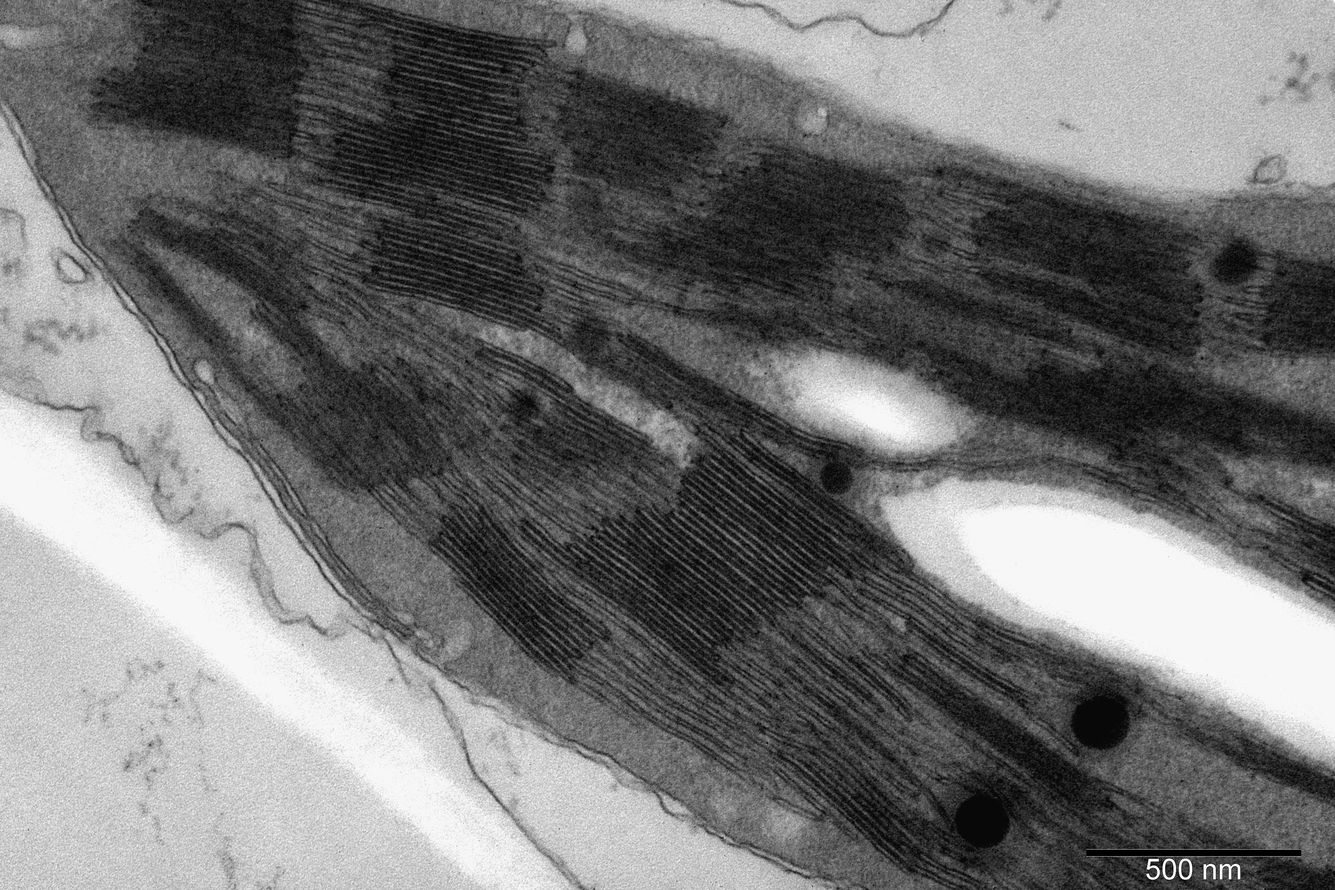granum: (512, 427, 917, 699), (931, 346, 1335, 479), (317, 4, 544, 218), (645, 140, 908, 308), (973, 176, 1201, 366), (891, 648, 1107, 816), (426, 495, 613, 688), (259, 316, 451, 496), (94, 0, 299, 161), (605, 331, 841, 464), (363, 194, 544, 335), (552, 66, 725, 196), (128, 205, 314, 323), (789, 738, 933, 880), (916, 277, 1072, 349), (520, 390, 652, 475), (1232, 730, 1335, 808), (1269, 253, 1335, 363), (1042, 648, 1147, 714), (475, 339, 574, 403), (1278, 502, 1335, 574), (1254, 850, 1335, 889)
